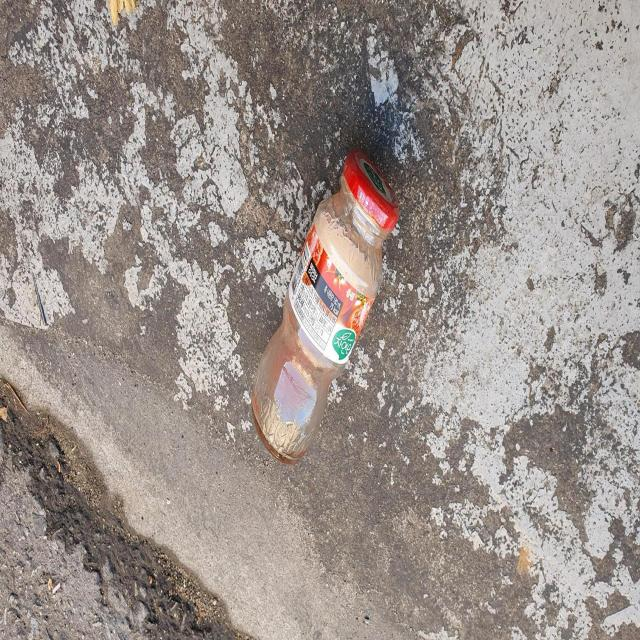glass: (251, 149, 399, 463)
